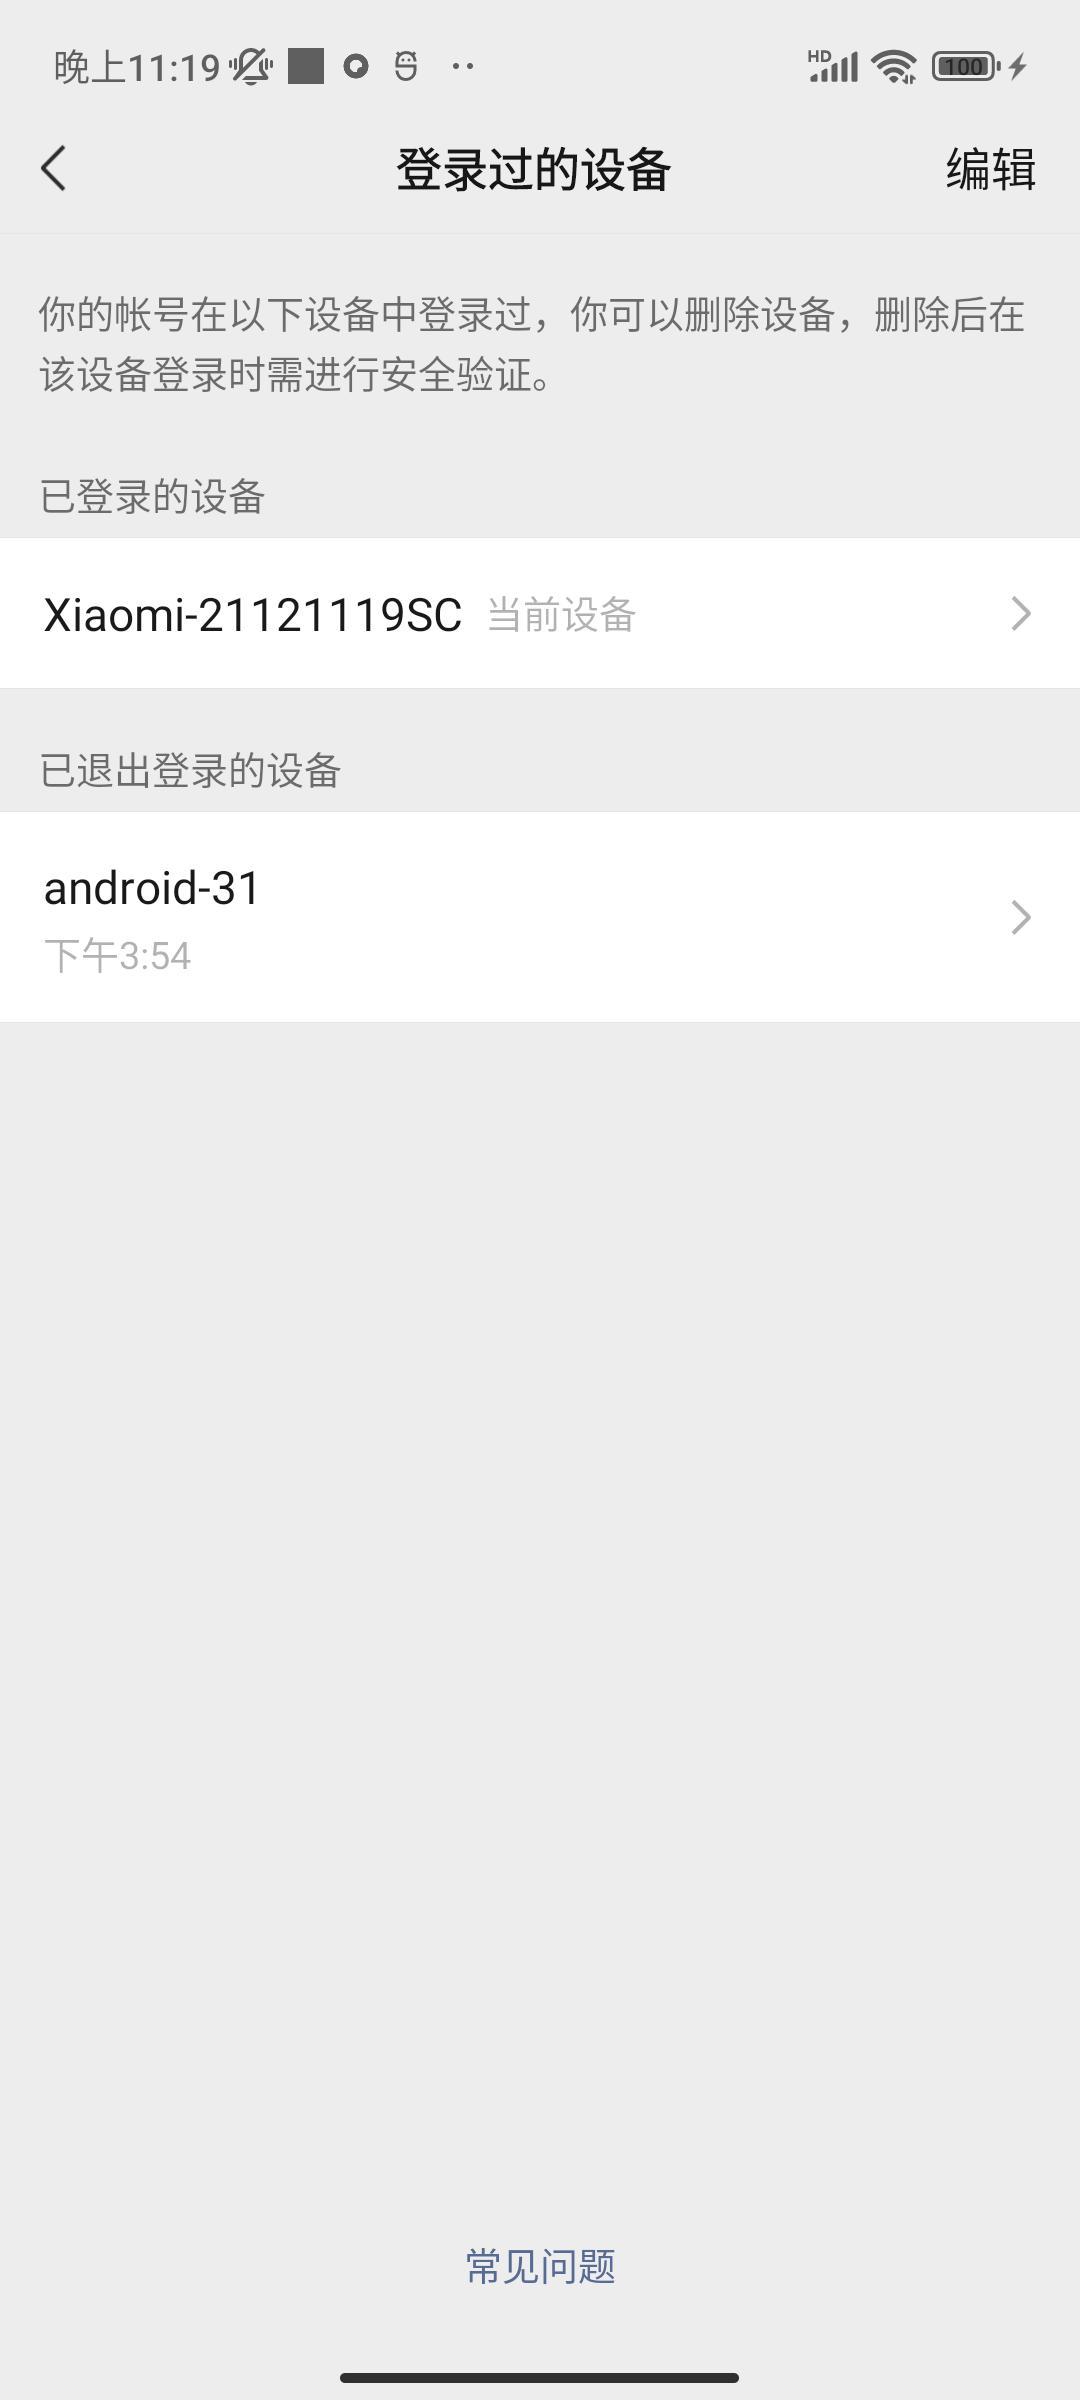ui_group: (8, 732, 1068, 1013), (5, 464, 1072, 695)
